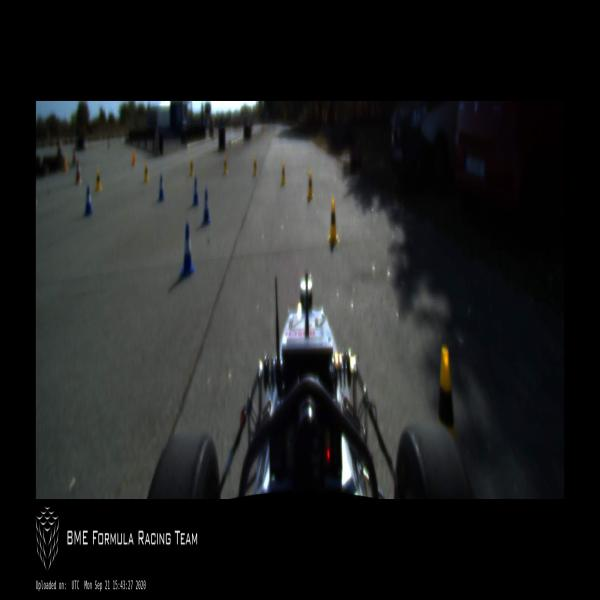blue_cone: (179, 223, 194, 280), (201, 189, 210, 226), (83, 183, 92, 219), (156, 174, 164, 202), (192, 178, 199, 206)
unknown_cone: (76, 159, 82, 184)
yellow_cone: (436, 344, 456, 462), (328, 198, 338, 243), (307, 172, 313, 200), (280, 162, 286, 184), (95, 170, 101, 191), (144, 163, 149, 182), (253, 155, 257, 177), (189, 159, 194, 176), (224, 157, 227, 175)
